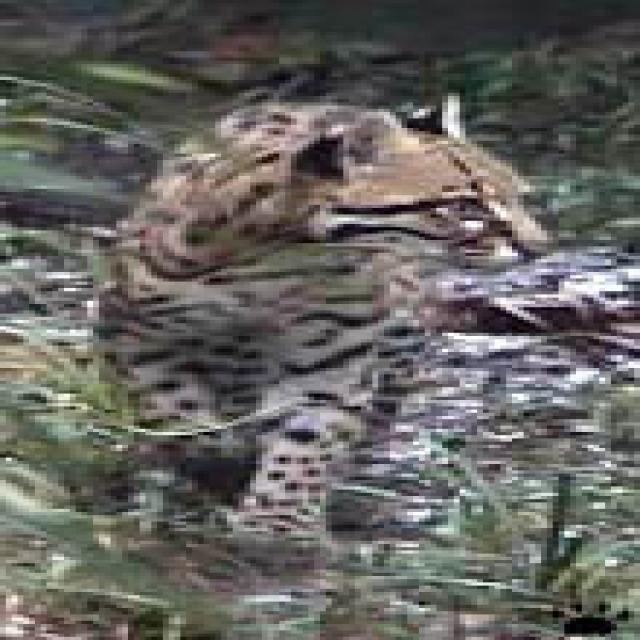Leopard: (70, 84, 558, 566)
